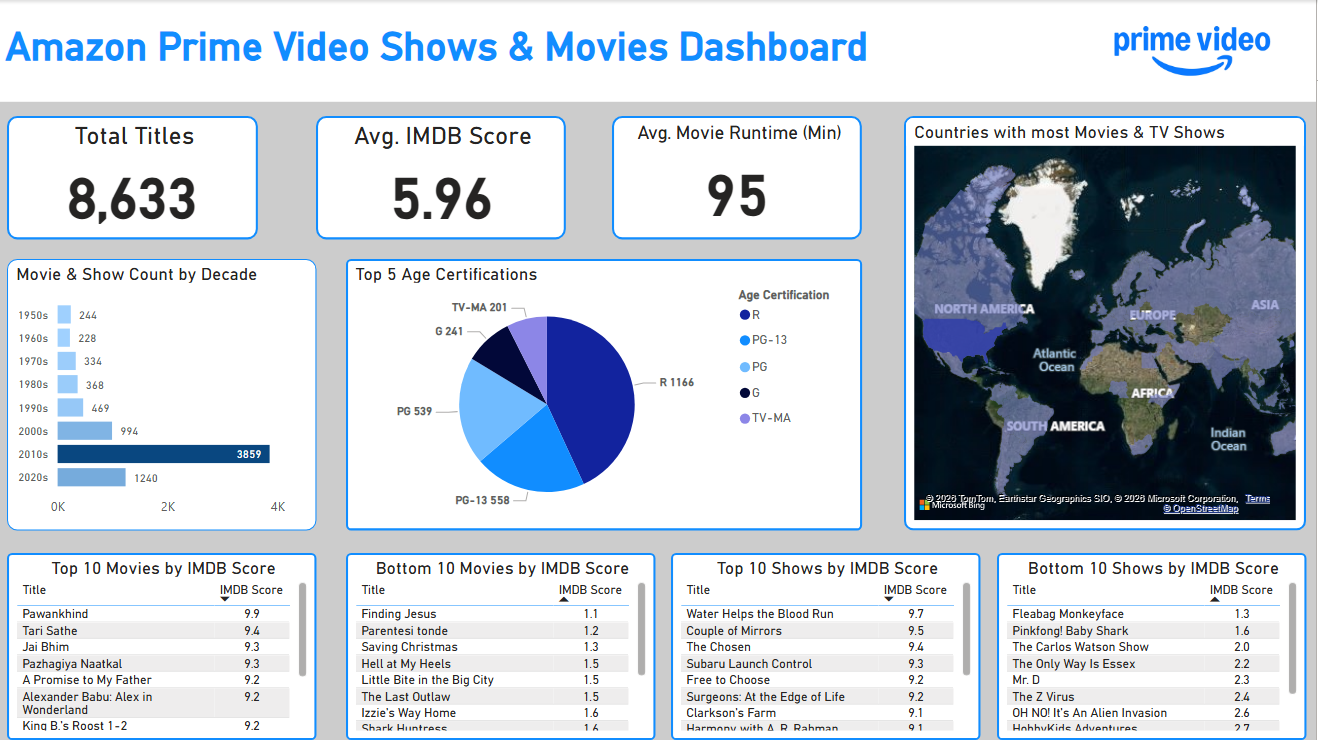

The dashboard page shown, as its layout file describes it:
{"tool":"powerbi","page":{"name":"Page 1","canvas":[1280,720],"ordinal":0},"visuals":[{"type":"card","title":"Total Titles","fields":{"Values":["CountNonNull(titles.title)"]},"box":[6.8,112.8,244.1,119.6],"z":0},{"type":"textbox","box":[0,0,1280,99.2],"z":1000},{"type":"image","box":[1039.8,0,240.2,99.2],"z":2000},{"type":"card","title":"Avg. IMDB Score","fields":{"Values":["Avg(titles.imdb_score)"]},"box":[307.4,112.8,243.2,119.6],"z":3000},{"type":"clusteredBarChart","title":"Movie & Show Count by Decade","fields":{"Y":["CountNonNull(titles.title)"],"Category":["titles.Decade"]},"box":[6.8,251.9,300.5,263.6],"z":4000},{"type":"filledMap","title":"Countries with most Movies & TV Shows","fields":{"Category":["titles.production_countries"]},"box":[879.3,112.8,391,402.7],"z":5000},{"type":"card","title":"Avg. Movie Runtime (Min)","fields":{"Values":["Avg(titles.runtime)"]},"box":[595.3,112.8,243.2,119.6],"z":6000},{"type":"pieChart","title":"Top 5 Age Certifications","fields":{"Category":["titles.age_certification"],"Y":["CountNonNull(titles.title)"]},"box":[336.5,251.9,501.9,263.6],"z":7000},{"type":"tableEx","title":"Top 10 Movies by IMDB Score","fields":{"Values":["titles.title","Sum(titles.imdb_score)"]},"box":[6.8,537.9,300.5,181.9],"z":7001},{"type":"tableEx","title":"Bottom 10 Movies by IMDB Score","fields":{"Values":["titles.title","Sum(titles.imdb_score)"]},"box":[336.5,537.9,300.5,181.9],"z":7002},{"type":"tableEx","title":"Top 10 Shows by IMDB Score","fields":{"Values":["titles.title","Sum(titles.imdb_score)"]},"box":[652.6,537.9,300.5,181.9],"z":7003},{"type":"tableEx","title":"Bottom 10 Shows by IMDB Score","fields":{"Values":["titles.title","Sum(titles.imdb_score)"]},"box":[969.7,537.9,300.5,181.9],"z":7004}]}

Visuals, with their boxes in screenshot pixels (x1, y1, x2, y2), scaled from the page's 1280x720 canvas onto the 1318x740 screenshot:
"Total Titles" card: detection(7, 116, 258, 239)
textbox: detection(0, 0, 1317, 102)
image: detection(1071, 0, 1317, 102)
"Avg. IMDB Score" card: detection(317, 116, 567, 239)
"Movie & Show Count by Decade" clusteredBarChart: detection(7, 259, 316, 530)
"Countries with most Movies & TV Shows" filledMap: detection(905, 116, 1308, 530)
"Avg. Movie Runtime (Min)" card: detection(613, 116, 863, 239)
"Top 5 Age Certifications" pieChart: detection(346, 259, 863, 530)
"Top 10 Movies by IMDB Score" tableEx: detection(7, 553, 316, 739)
"Bottom 10 Movies by IMDB Score" tableEx: detection(346, 553, 656, 739)
"Top 10 Shows by IMDB Score" tableEx: detection(672, 553, 981, 739)
"Bottom 10 Shows by IMDB Score" tableEx: detection(998, 553, 1308, 739)
